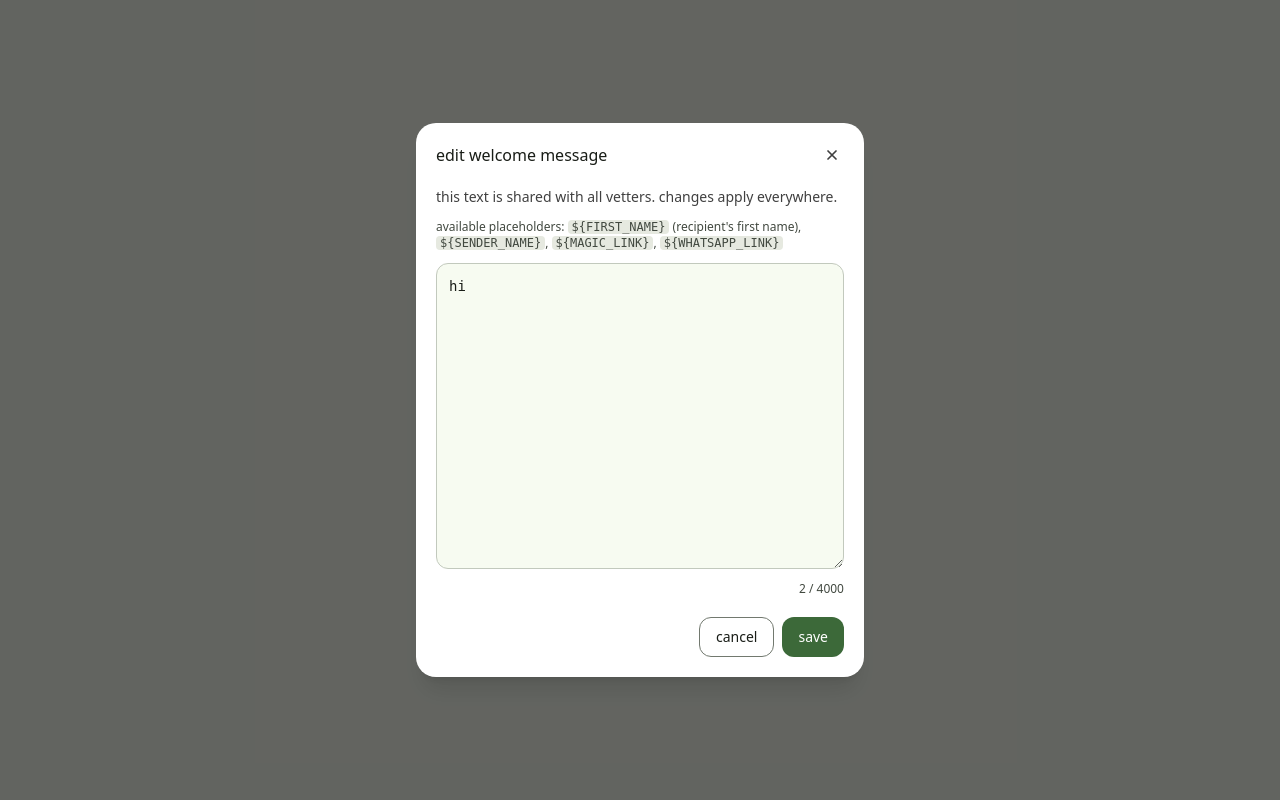
Test: WelcomeTemplateEditorDialog › shows the FE-rendered too-long error from a structured 422
Click the button "save" at (813, 637), box [782,617,844,657]
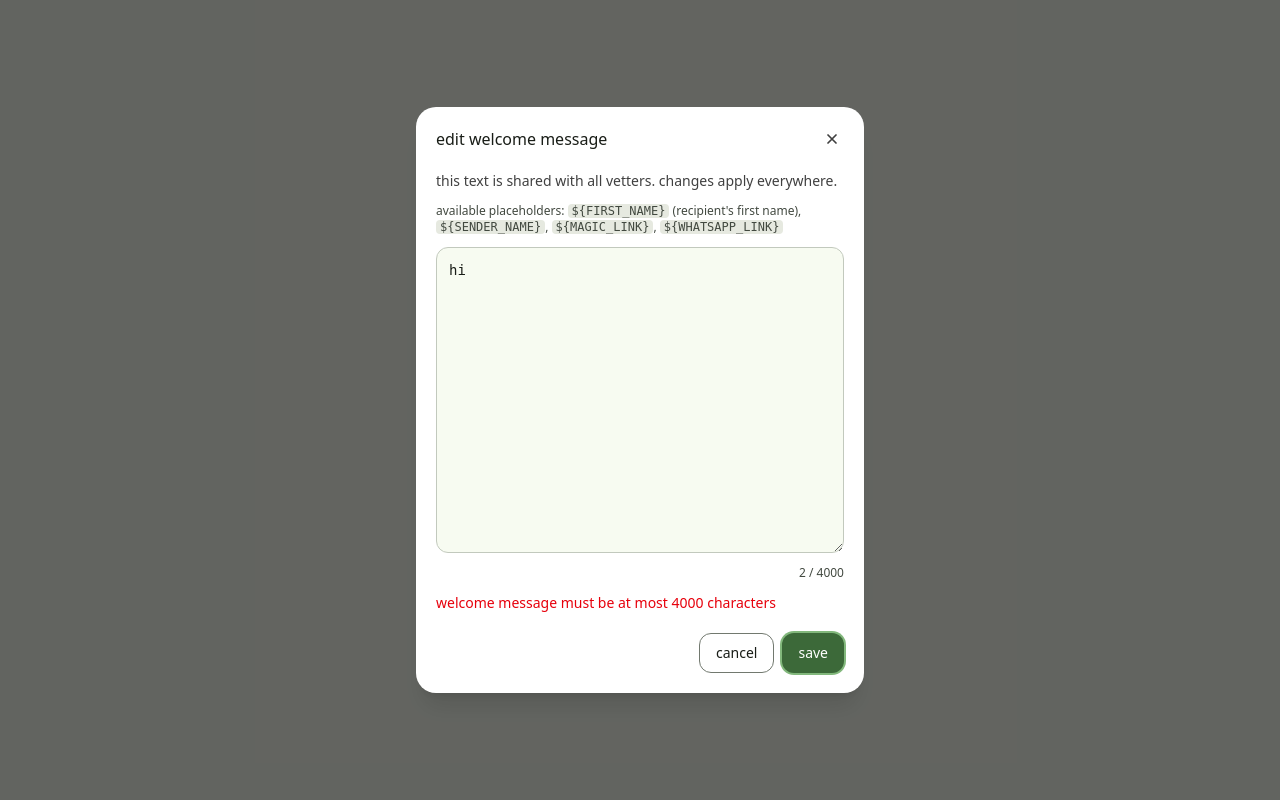
Now the message reads "welcome message must be at most 4000 characters", box [436,593,776,612]
